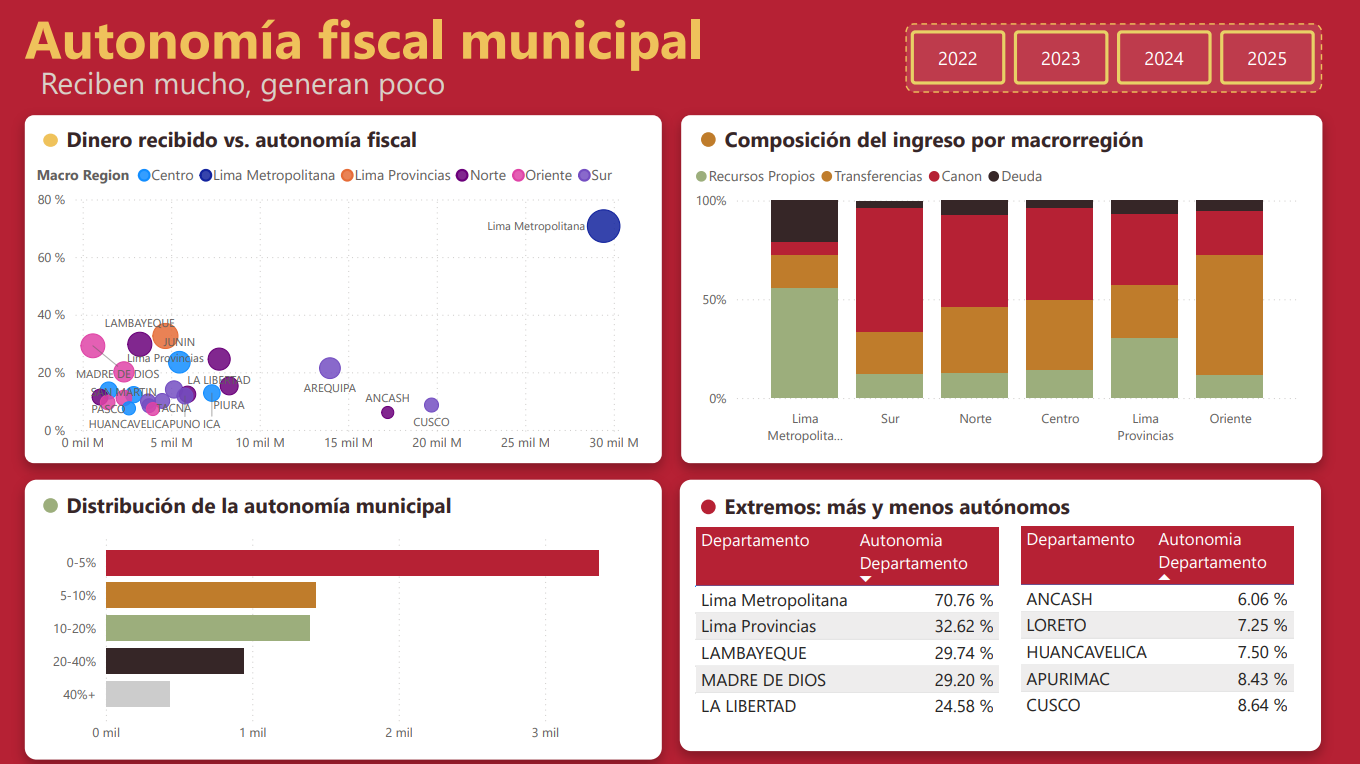

The dashboard page shown, as its layout file describes it:
{"tool":"powerbi","page":{"name":"Autonomía","canvas":[1280,720],"ordinal":1},"visuals":[{"type":"advancedSlicerVisual","fields":{"Values":["DimAño.ANO"]},"box":[851.7,22.6,390.9,61.5],"z":0},{"type":"scatterChart","fields":{"Category":["gold UBICACION.DEPARTAMENTO_VISUAL"],"Series":["gold UBICACION.MACRO_REGION"],"Size":["MedidasDAX.Promedio Autonomia"],"X":["Sum(gold AUTONOMIA_FISCAL.MONTO_TOTAL_SIN_DEUDA)"],"Y":["MedidasDAX.Autonomia Departamento"]},"box":[30.2,143.6,582.7,290.8],"z":1000},{"type":"hundredPercentStackedColumnChart","fields":{"Category":["gold UBICACION.MACRO_REGION"],"Y":["Sum(gold AUTONOMIA_FISCAL.MONTO_RECURSOS_PROPIOS)","Sum(gold AUTONOMIA_FISCAL.MONTO_TRANSFERENCIAS)","Sum(gold AUTONOMIA_FISCAL.MONTO_CANON)","Sum(gold AUTONOMIA_FISCAL.MONTO_DEUDA)"]},"box":[648.8,144.6,578.4,279.9],"z":2000},{"type":"barChart","fields":{"Category":["gold AUTONOMIA_FISCAL.Rango Autonomia"],"Y":["CountNonNull(gold AUTONOMIA_FISCAL.UBIGEO)"]},"box":[42.5,490.9,557.2,214.9],"z":3000},{"type":"tableEx","fields":{"Values":["gold UBICACION.DEPARTAMENTO_VISUAL","MedidasDAX.Autonomia Departamento"]},"box":[649.1,490.2,320.8,203.9],"z":4000},{"type":"tableEx","fields":{"Values":["gold UBICACION.DEPARTAMENTO_VISUAL","MedidasDAX.Autonomia Departamento"]},"box":[955,488.7,272.9,215.9],"z":5000}]}

Visuals, with their boxes in screenshot pixels (x1, y1, x2, y2), scaled from the page's 1280x720 canvas onto the 1360x764 screenshot:
advancedSlicerVisual - DimAño.ANO: pyautogui.locateOnScreen(905, 24, 1320, 89)
scatterChart - gold UBICACION.DEPARTAMENTO_VISUAL x gold UBICACION.MACRO_REGION: pyautogui.locateOnScreen(32, 152, 651, 461)
hundredPercentStackedColumnChart - gold UBICACION.MACRO_REGION x Sum(gold AUTONOMIA_FISCAL.MONTO_RECURSOS_PROPIOS): pyautogui.locateOnScreen(689, 153, 1304, 450)
barChart - gold AUTONOMIA_FISCAL.Rango Autonomia x CountNonNull(gold AUTONOMIA_FISCAL.UBIGEO): pyautogui.locateOnScreen(45, 521, 637, 749)
tableEx - gold UBICACION.DEPARTAMENTO_VISUAL x MedidasDAX.Autonomia Departamento: pyautogui.locateOnScreen(690, 520, 1031, 737)
tableEx - gold UBICACION.DEPARTAMENTO_VISUAL x MedidasDAX.Autonomia Departamento: pyautogui.locateOnScreen(1015, 519, 1305, 748)
